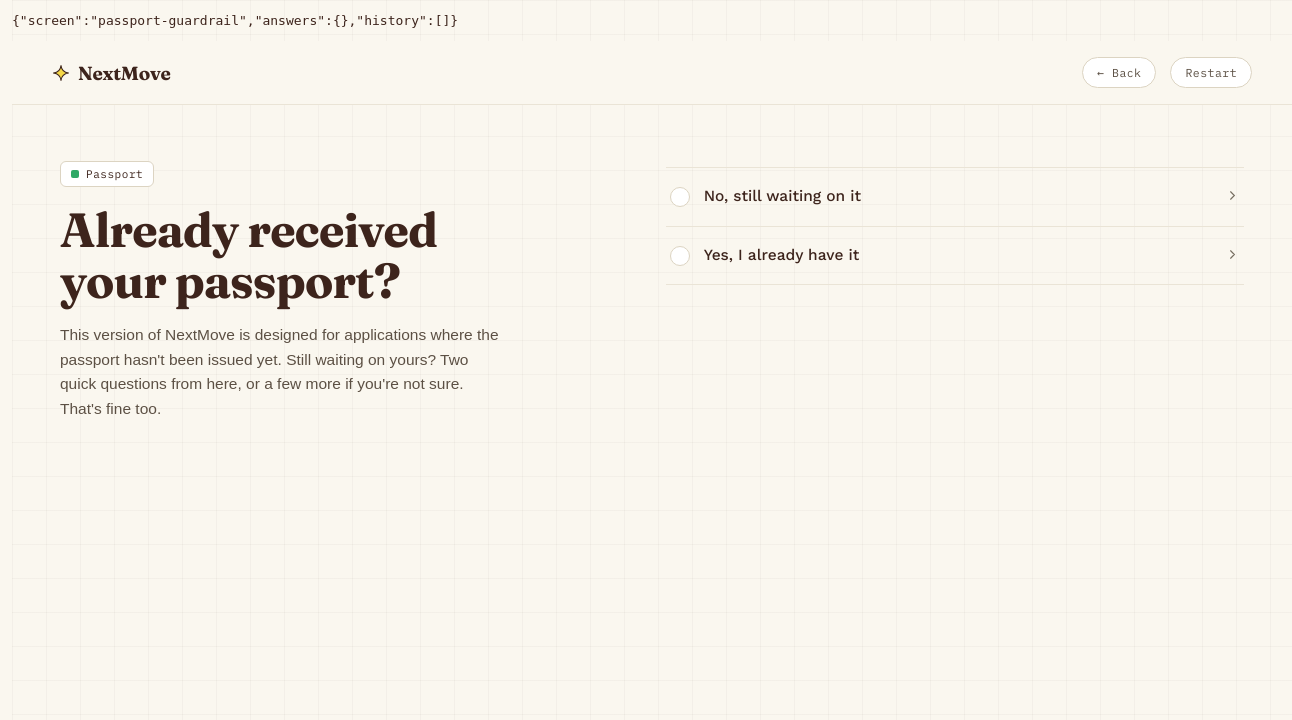
Test: passport flow › "No, still waiting on it" routes to Q1
The width and height of the screenshot is (1292, 720).
Click the button "No, still waiting on it".
click(782, 196)  # box [666,168,1244,227]
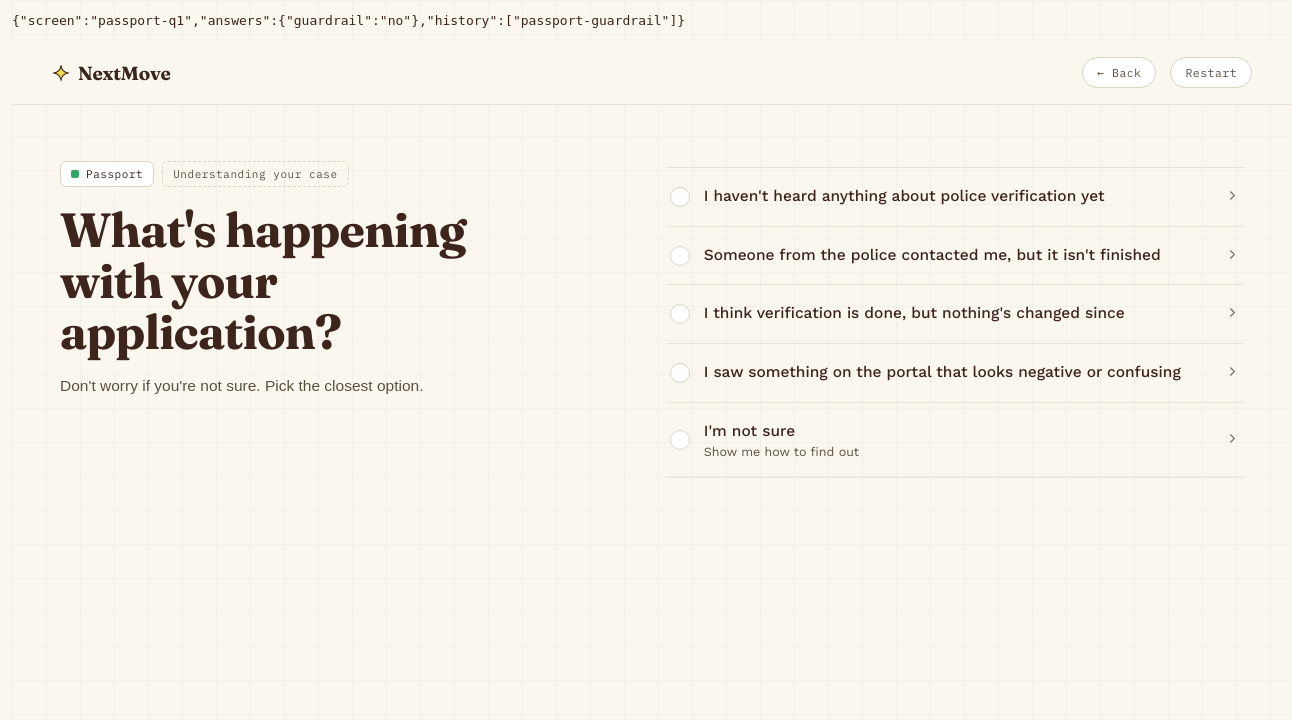
Now the heading "What's happening with your application?" is shown, box [60,200,466,361]
